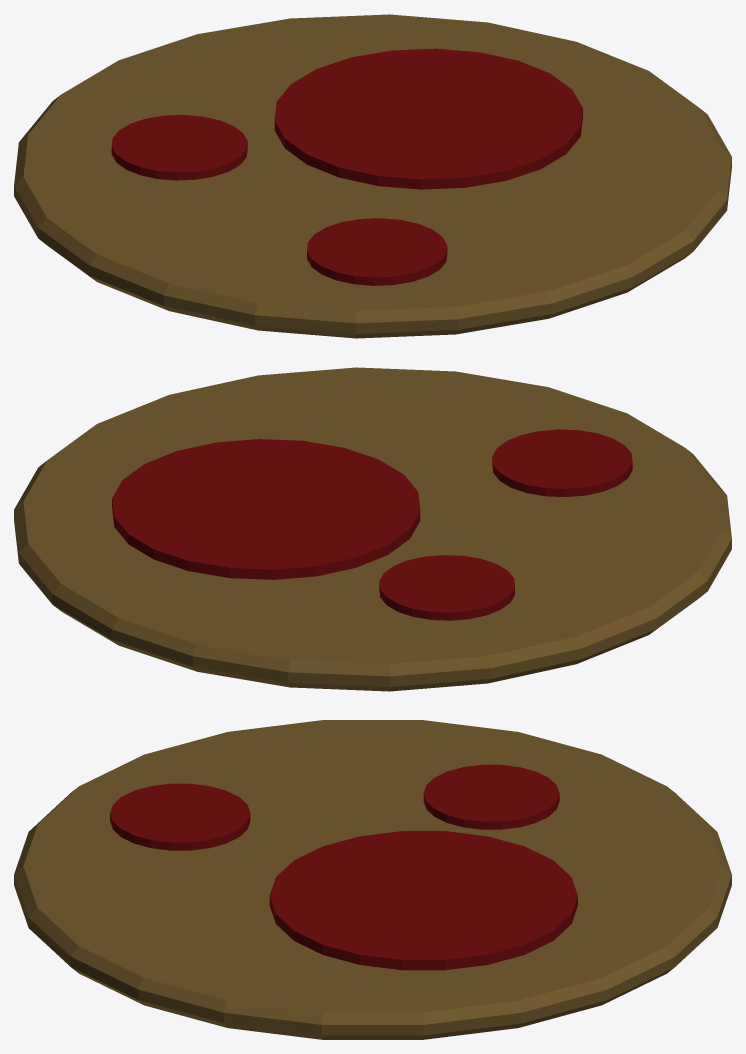
File: wall_pizza3.fbx
The picture shows the model from 3 angles, top to bottom: view 1: azimuth 30°, elevation 25°; view 2: azimuth 150°, elevation 25°; view 3: azimuth 270°, elevation 25°; orthographic projection.
Parts seen in each view (by area): view 1: Cylinder, Cylinder.002, Cylinder.003, Cylinder.001; view 2: Cylinder, Cylinder.002, Cylinder.003, Cylinder.001; view 3: Cylinder, Cylinder.002, Cylinder.003, Cylinder.001.
Boxes of the visible parts, box(x1,y1,x2,y2) form: Cylinder: box(14, 14, 731, 338); Cylinder.002: box(274, 48, 582, 189); Cylinder.003: box(307, 218, 447, 285); Cylinder.001: box(111, 115, 247, 180); Cylinder: box(14, 367, 731, 691); Cylinder.002: box(112, 439, 420, 579); Cylinder.003: box(492, 429, 632, 497); Cylinder.001: box(379, 555, 514, 620); Cylinder: box(14, 720, 731, 1039); Cylinder.002: box(269, 831, 577, 970); Cylinder.003: box(110, 783, 250, 850); Cylinder.001: box(423, 764, 559, 829).
Bounding box in the file's own units: 305 × 17.78 × 308.
